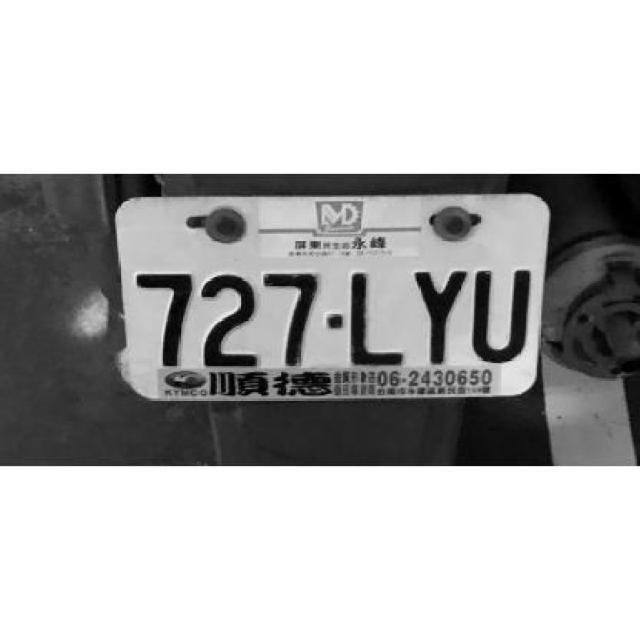-: (325, 310, 343, 328)
2: (196, 268, 264, 368)
7: (132, 266, 194, 368), (260, 268, 323, 364)
L: (348, 268, 410, 368)
U: (471, 263, 532, 365)
Y: (411, 265, 466, 363)
